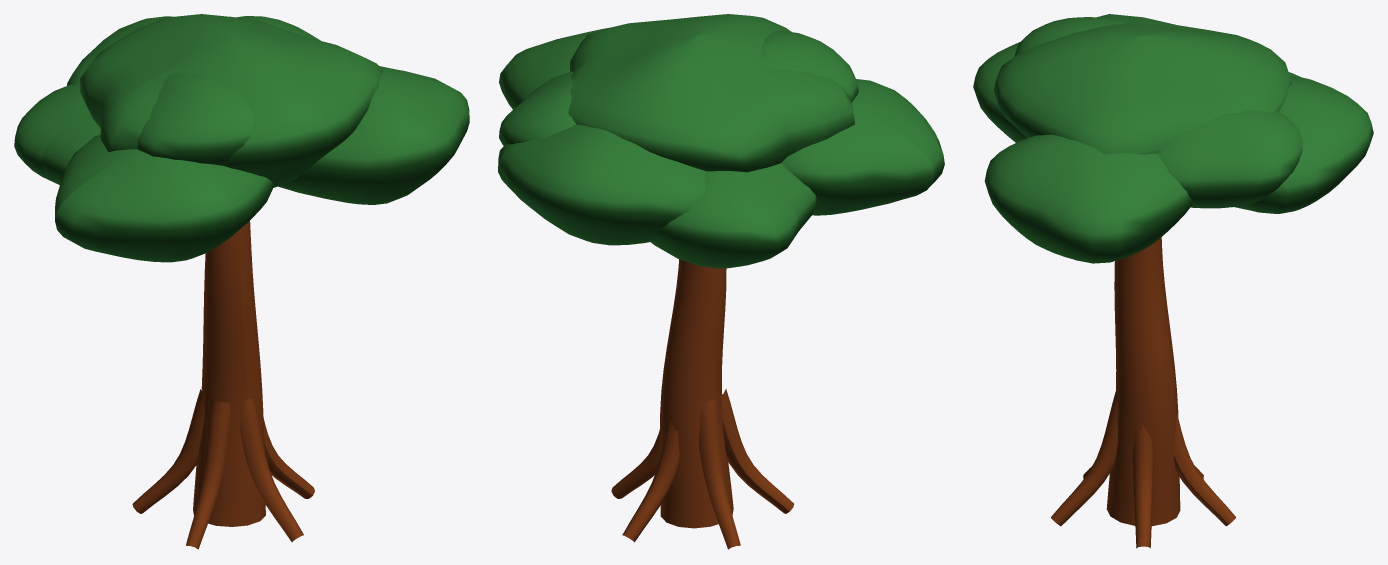
Rendered from kapok-tree.glb.
3 views of the same model, side by side, from view 1: azimuth 30°, elevation 25°; view 2: azimuth 150°, elevation 25°; view 3: azimuth 270°, elevation 25° (orthographic).
Visible parts, largest first — view 1: Crown_0, Crown_1, Crown_2, Trunk, Crown_6, Crown_4, Buttress_3, Buttress_4, Buttress_2, Buttress_0, Crown_3; view 2: Crown_0, Crown_3, Crown_1, Trunk, Crown_4, Crown_5, Crown_6, Crown_2, Buttress_2, Buttress_3, Buttress_1, Buttress_0; view 3: Crown_0, Crown_2, Trunk, Crown_5, Crown_3, Buttress_4, Buttress_0, Crown_1, Buttress_1, Crown_6.
Boxes of the visible parts, box(x1,y1,x2,y2) form: Crown_0: box(80, 14, 383, 187); Crown_1: box(55, 134, 273, 262); Crown_2: box(278, 66, 469, 204); Trunk: box(193, 221, 265, 526); Crown_6: box(137, 72, 253, 165); Crown_4: box(14, 85, 100, 184); Buttress_3: box(186, 399, 230, 549); Buttress_4: box(239, 398, 303, 541); Buttress_2: box(132, 389, 204, 513); Buttress_0: box(263, 419, 314, 498); Crown_3: box(67, 16, 173, 85); Crown_0: box(568, 14, 854, 172); Crown_3: box(498, 124, 705, 245); Crown_1: box(781, 79, 944, 215); Trunk: box(659, 259, 733, 528); Crown_4: box(650, 163, 816, 268); Crown_5: box(499, 71, 576, 145); Crown_6: box(761, 30, 858, 102); Crown_2: box(499, 28, 607, 109); Buttress_2: box(699, 399, 740, 549); Buttress_3: box(721, 389, 794, 513); Buttress_1: box(622, 420, 679, 542); Buttress_0: box(611, 429, 659, 498); Crown_0: box(993, 14, 1291, 154); Crown_2: box(984, 134, 1192, 263); Trunk: box(1106, 237, 1180, 526); Crown_5: box(1158, 110, 1302, 208); Crown_3: box(1234, 75, 1373, 213); Buttress_4: box(1051, 391, 1118, 526); Buttress_0: box(1132, 425, 1153, 548); Crown_1: box(973, 42, 1027, 142); Buttress_1: box(1173, 413, 1235, 526); Crown_6: box(1014, 17, 1131, 56).
Size of the model in its own units: 8.14 by 8.9 by 6.75.
